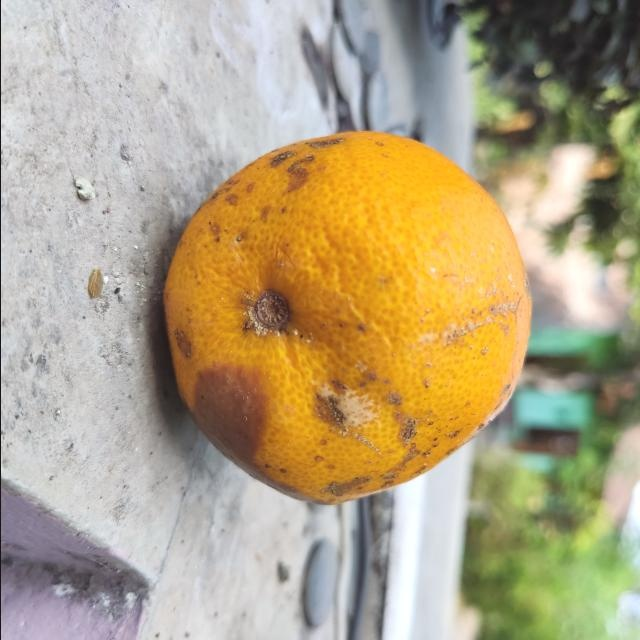agrume: (161, 131, 530, 505)
